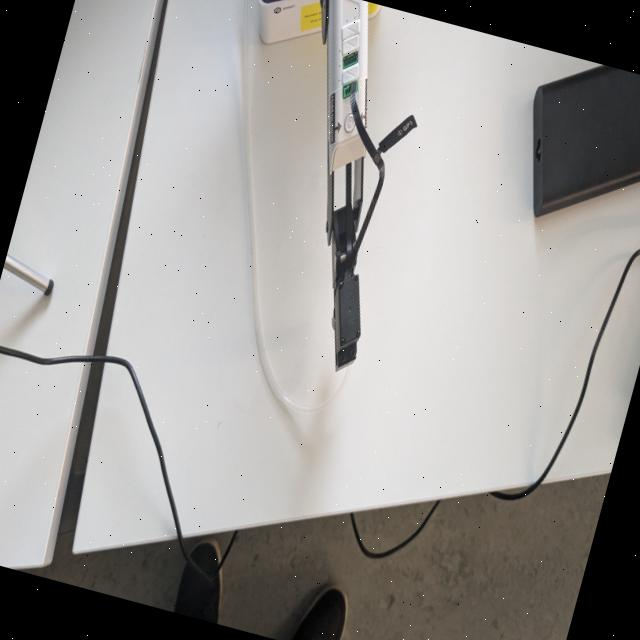Robot-end-effector-HF8z: (313, 264, 379, 378)
